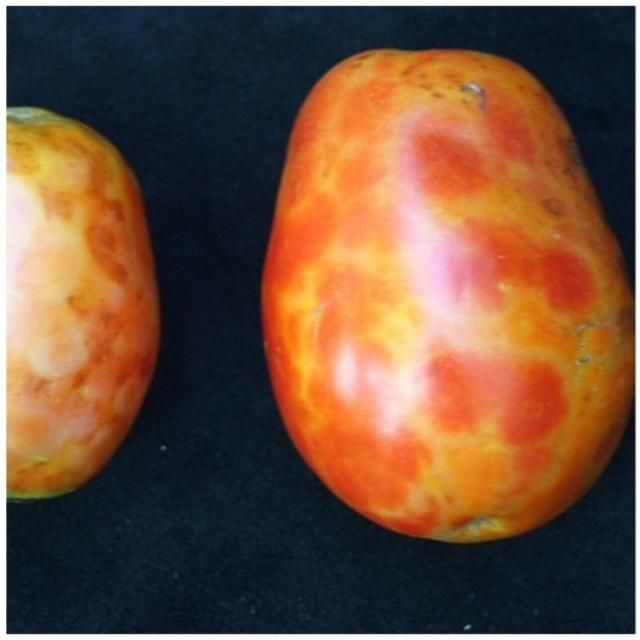Spotted wilt Virus Fruit: (56, 196, 298, 331)
